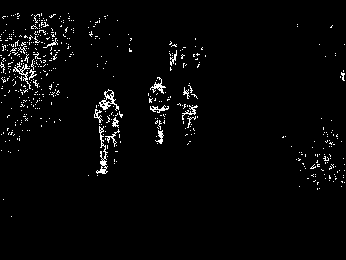person: (92, 87, 124, 176), (147, 74, 171, 146), (178, 82, 201, 147)
